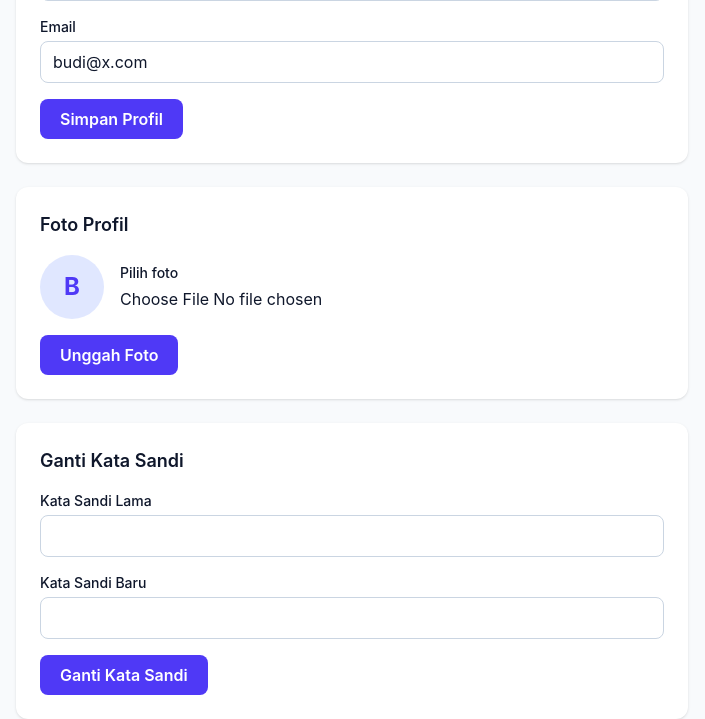
Test case: ProfilePage - ganti kata sandi › menampilkan pesan error jika kata sandi baru terlalu pendek
(page scrolled)
Type "lama123" into the password field labelled "Kata Sandi Lama" at (352, 536), box x1=40 y1=515 x2=664 y2=557
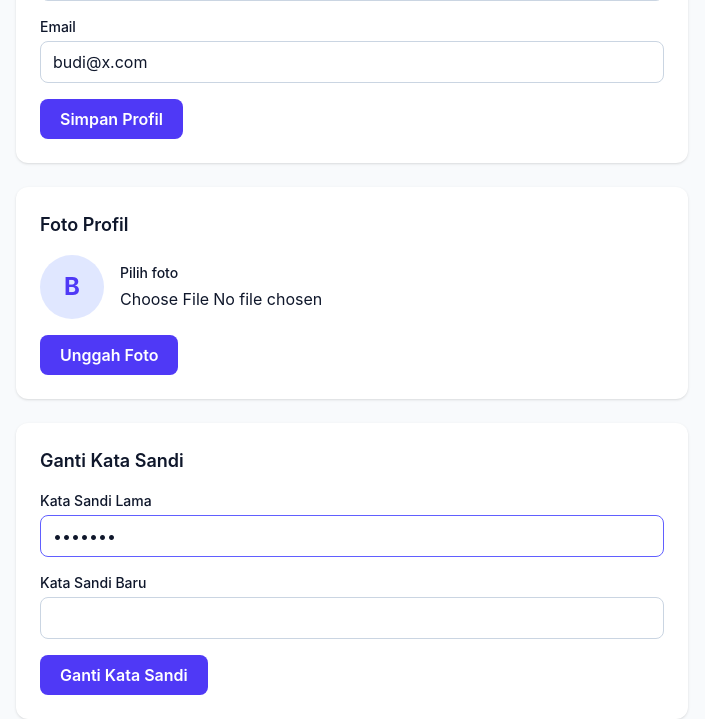
Type "123" into the password field labelled "Kata Sandi Baru" at (352, 618), box x1=40 y1=597 x2=664 y2=639
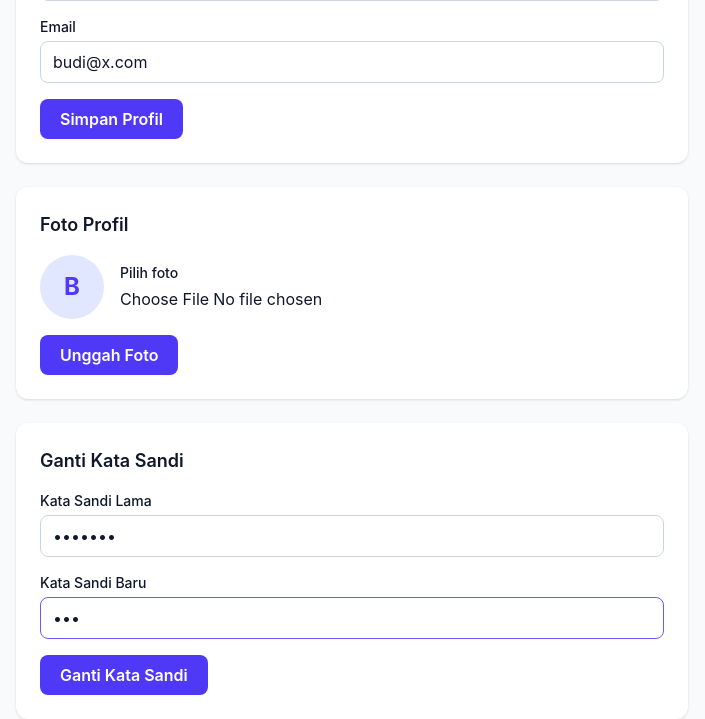
Click the button "Ganti Kata Sandi" at (124, 675), box x1=40 y1=655 x2=208 y2=695
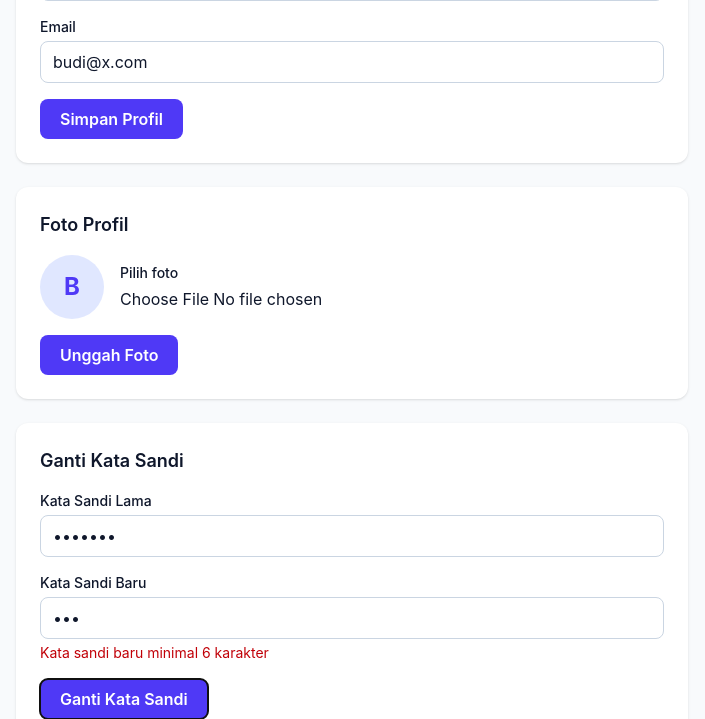
Check: the text "Kata sandi baru minimal 6 karakter" is shown, box x1=40 y1=644 x2=269 y2=661
